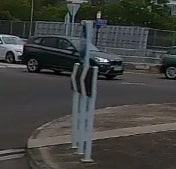Turn Left(quick): (70, 61, 94, 97)
